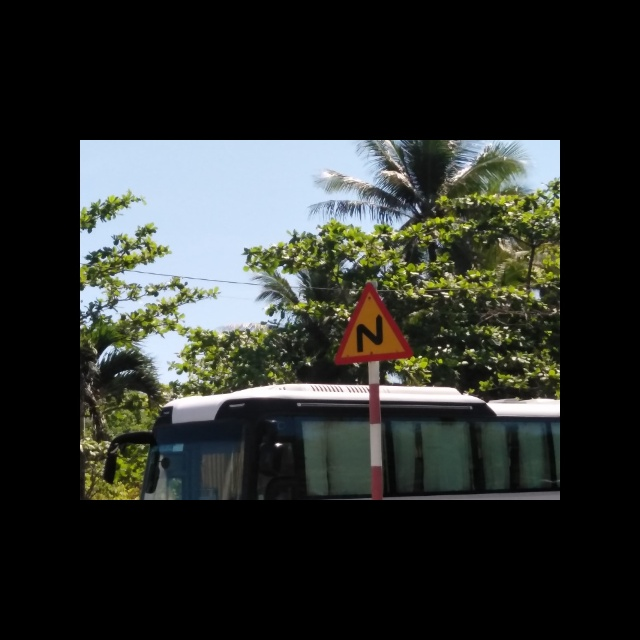Ngoặt nguy hiểm liên tiếp bên phải: (334, 282, 412, 368)
